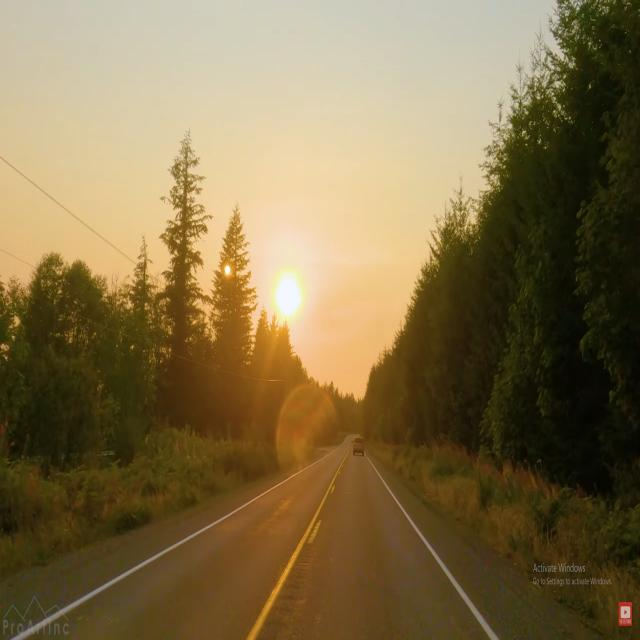sun: (266, 252, 310, 335)
